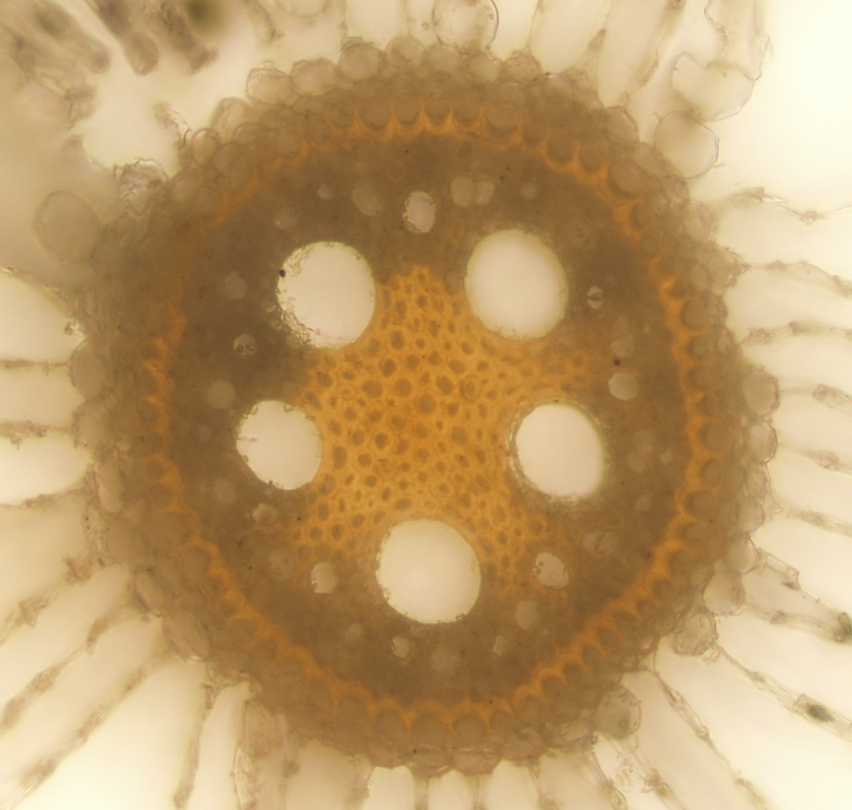lm: (465, 229, 570, 341), (375, 518, 481, 625), (273, 240, 377, 348), (511, 397, 607, 500), (236, 400, 322, 491)
